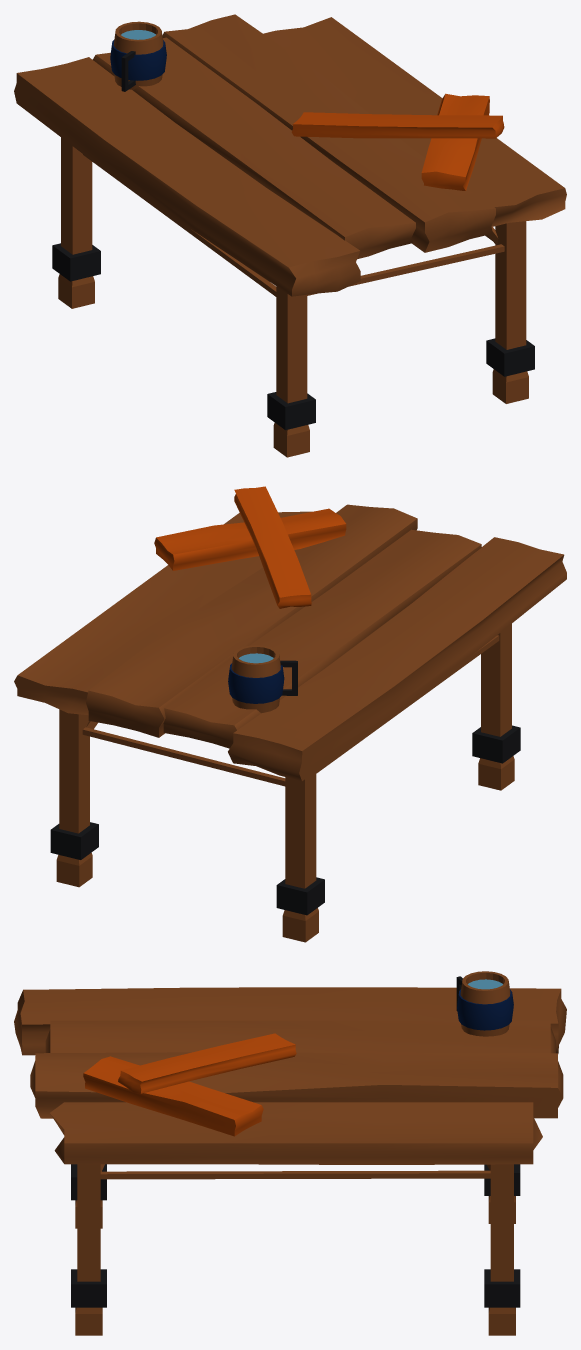
The model's file is Crafting_Table.fbx.
3 renders of one model, top to bottom at view 1: azimuth 30°, elevation 25°; view 2: azimuth 150°, elevation 25°; view 3: azimuth 270°, elevation 25°, orthographic.
Visible parts, largest first — view 1: polySurface21; view 2: polySurface21; view 3: polySurface21.
Part boxes in pixels (bbox=[...]): polySurface21: bbox=[14, 14, 566, 457]; polySurface21: bbox=[14, 486, 566, 942]; polySurface21: bbox=[14, 971, 566, 1335].
Size of the model in its own units: 79.05 by 63.18 by 120.
